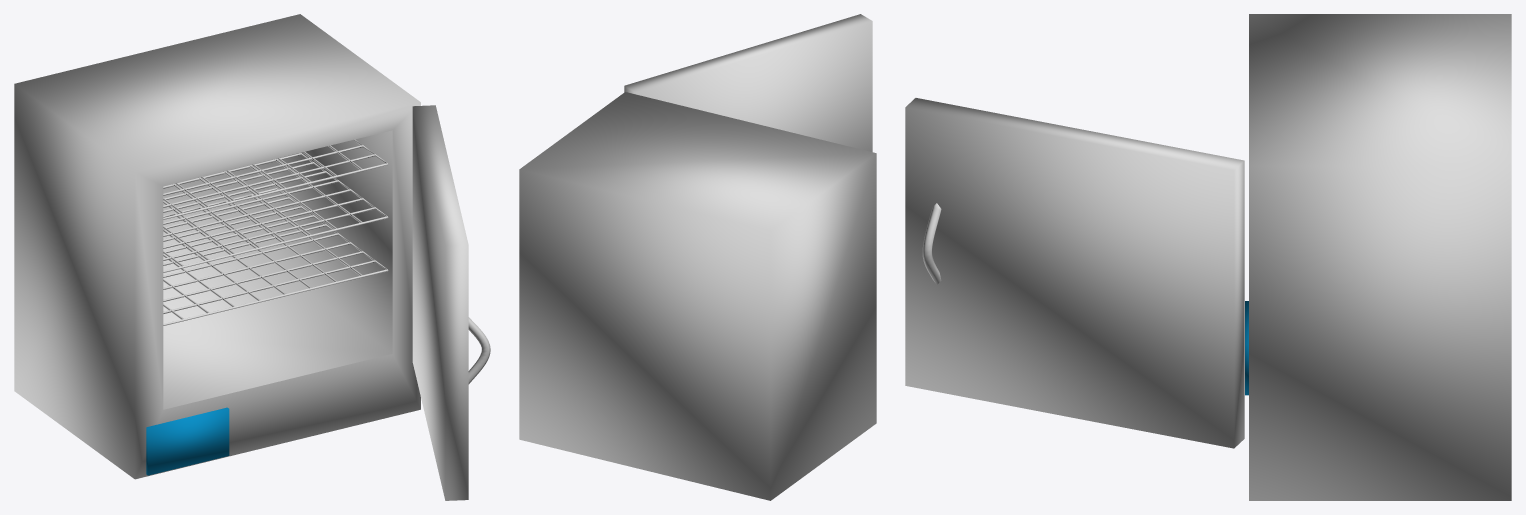
Rendered from laboratory_incubator+uv.fbx.
3 views of the same model, side by side, from view 1: azimuth 30°, elevation 25°; view 2: azimuth 150°, elevation 25°; view 3: azimuth 270°, elevation 25° (orthographic). The views are drawn at different scales.
Parts seen in each view (by area): view 1: geo1; view 2: geo1; view 3: geo1.
Boxes of the visible parts, x1,y1,x2,y2 form: geo1: [14, 14, 490, 500]; geo1: [519, 14, 876, 500]; geo1: [905, 14, 1511, 500].
Size of the model in its own units: 98.5 by 98.37 by 161.
